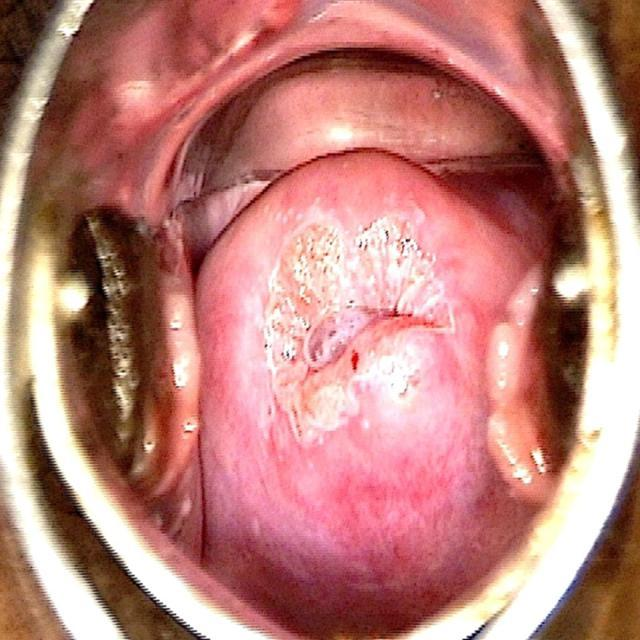cervical_lesion: (149, 167, 500, 500)
